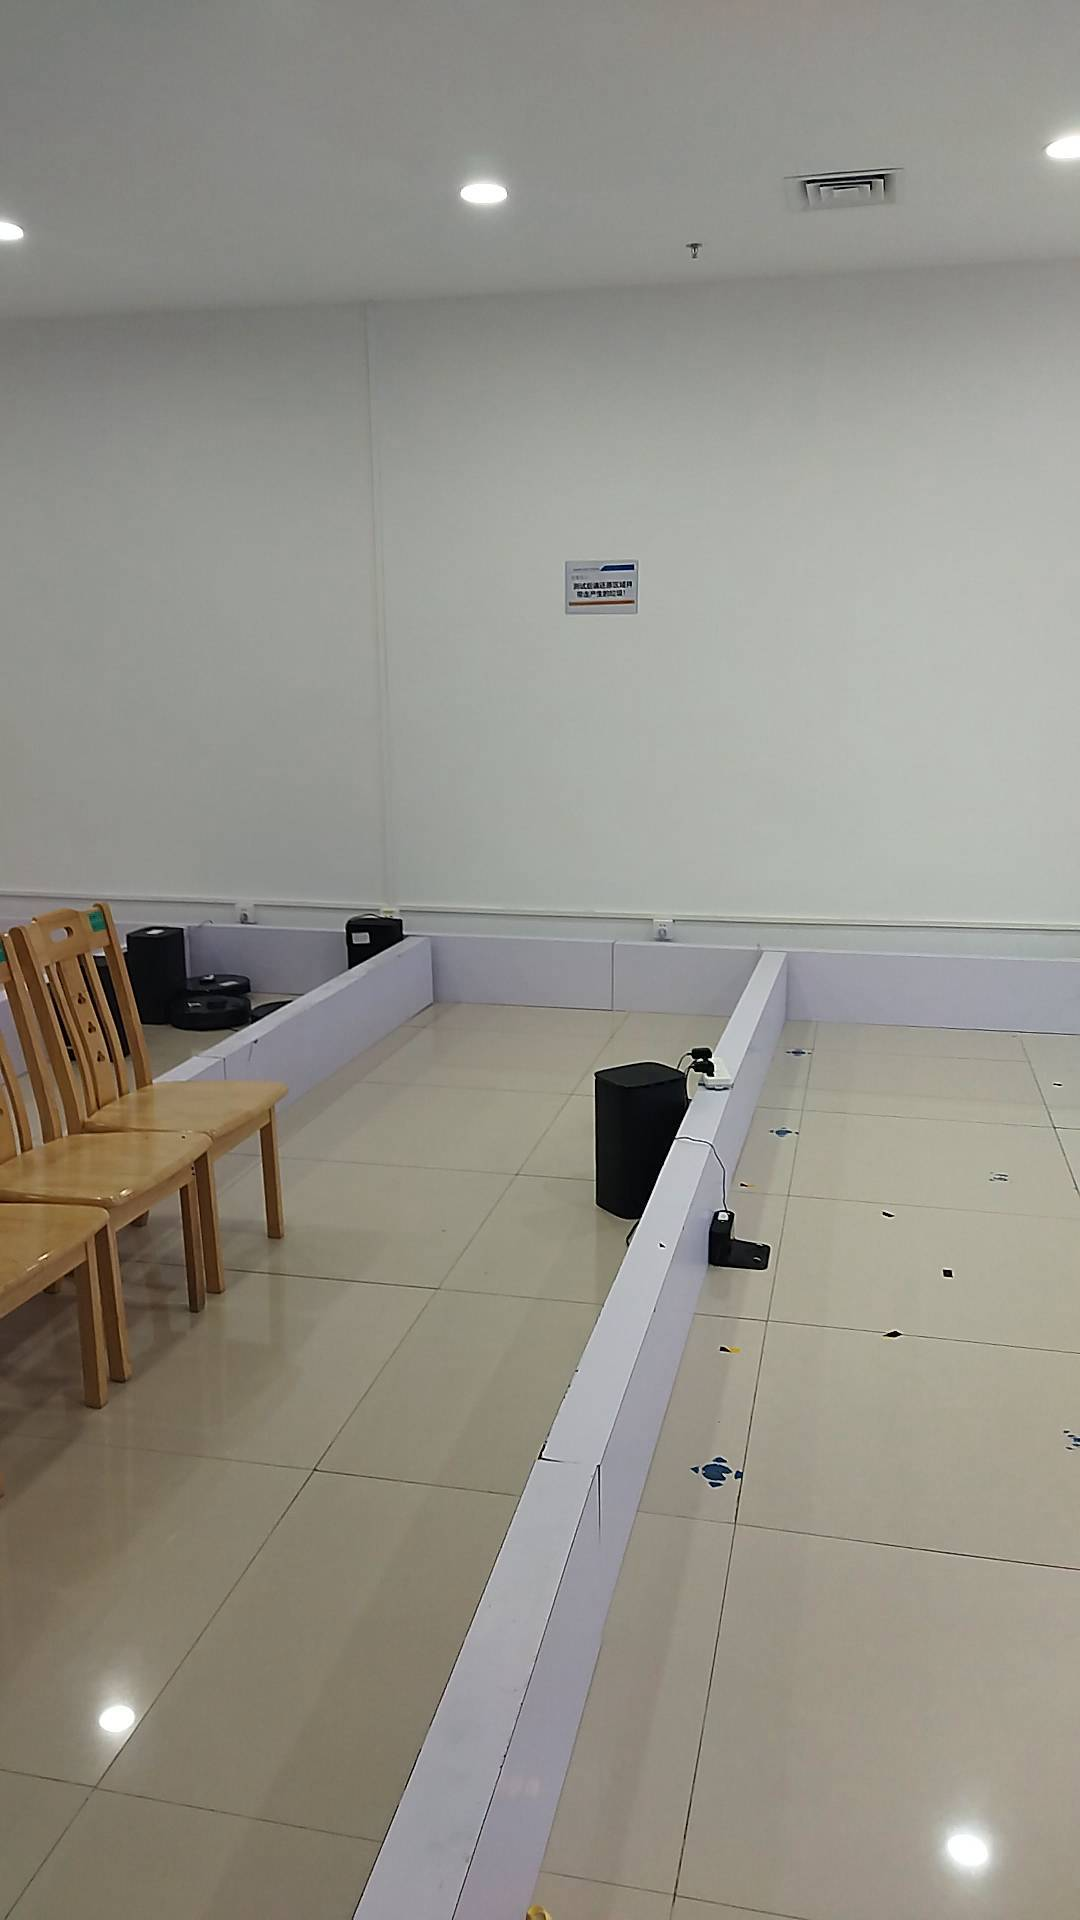dust collecting barrel: (591, 1062, 694, 1218), (120, 922, 191, 1027), (345, 918, 402, 972)
recharge seat: (709, 1209, 775, 1274)
